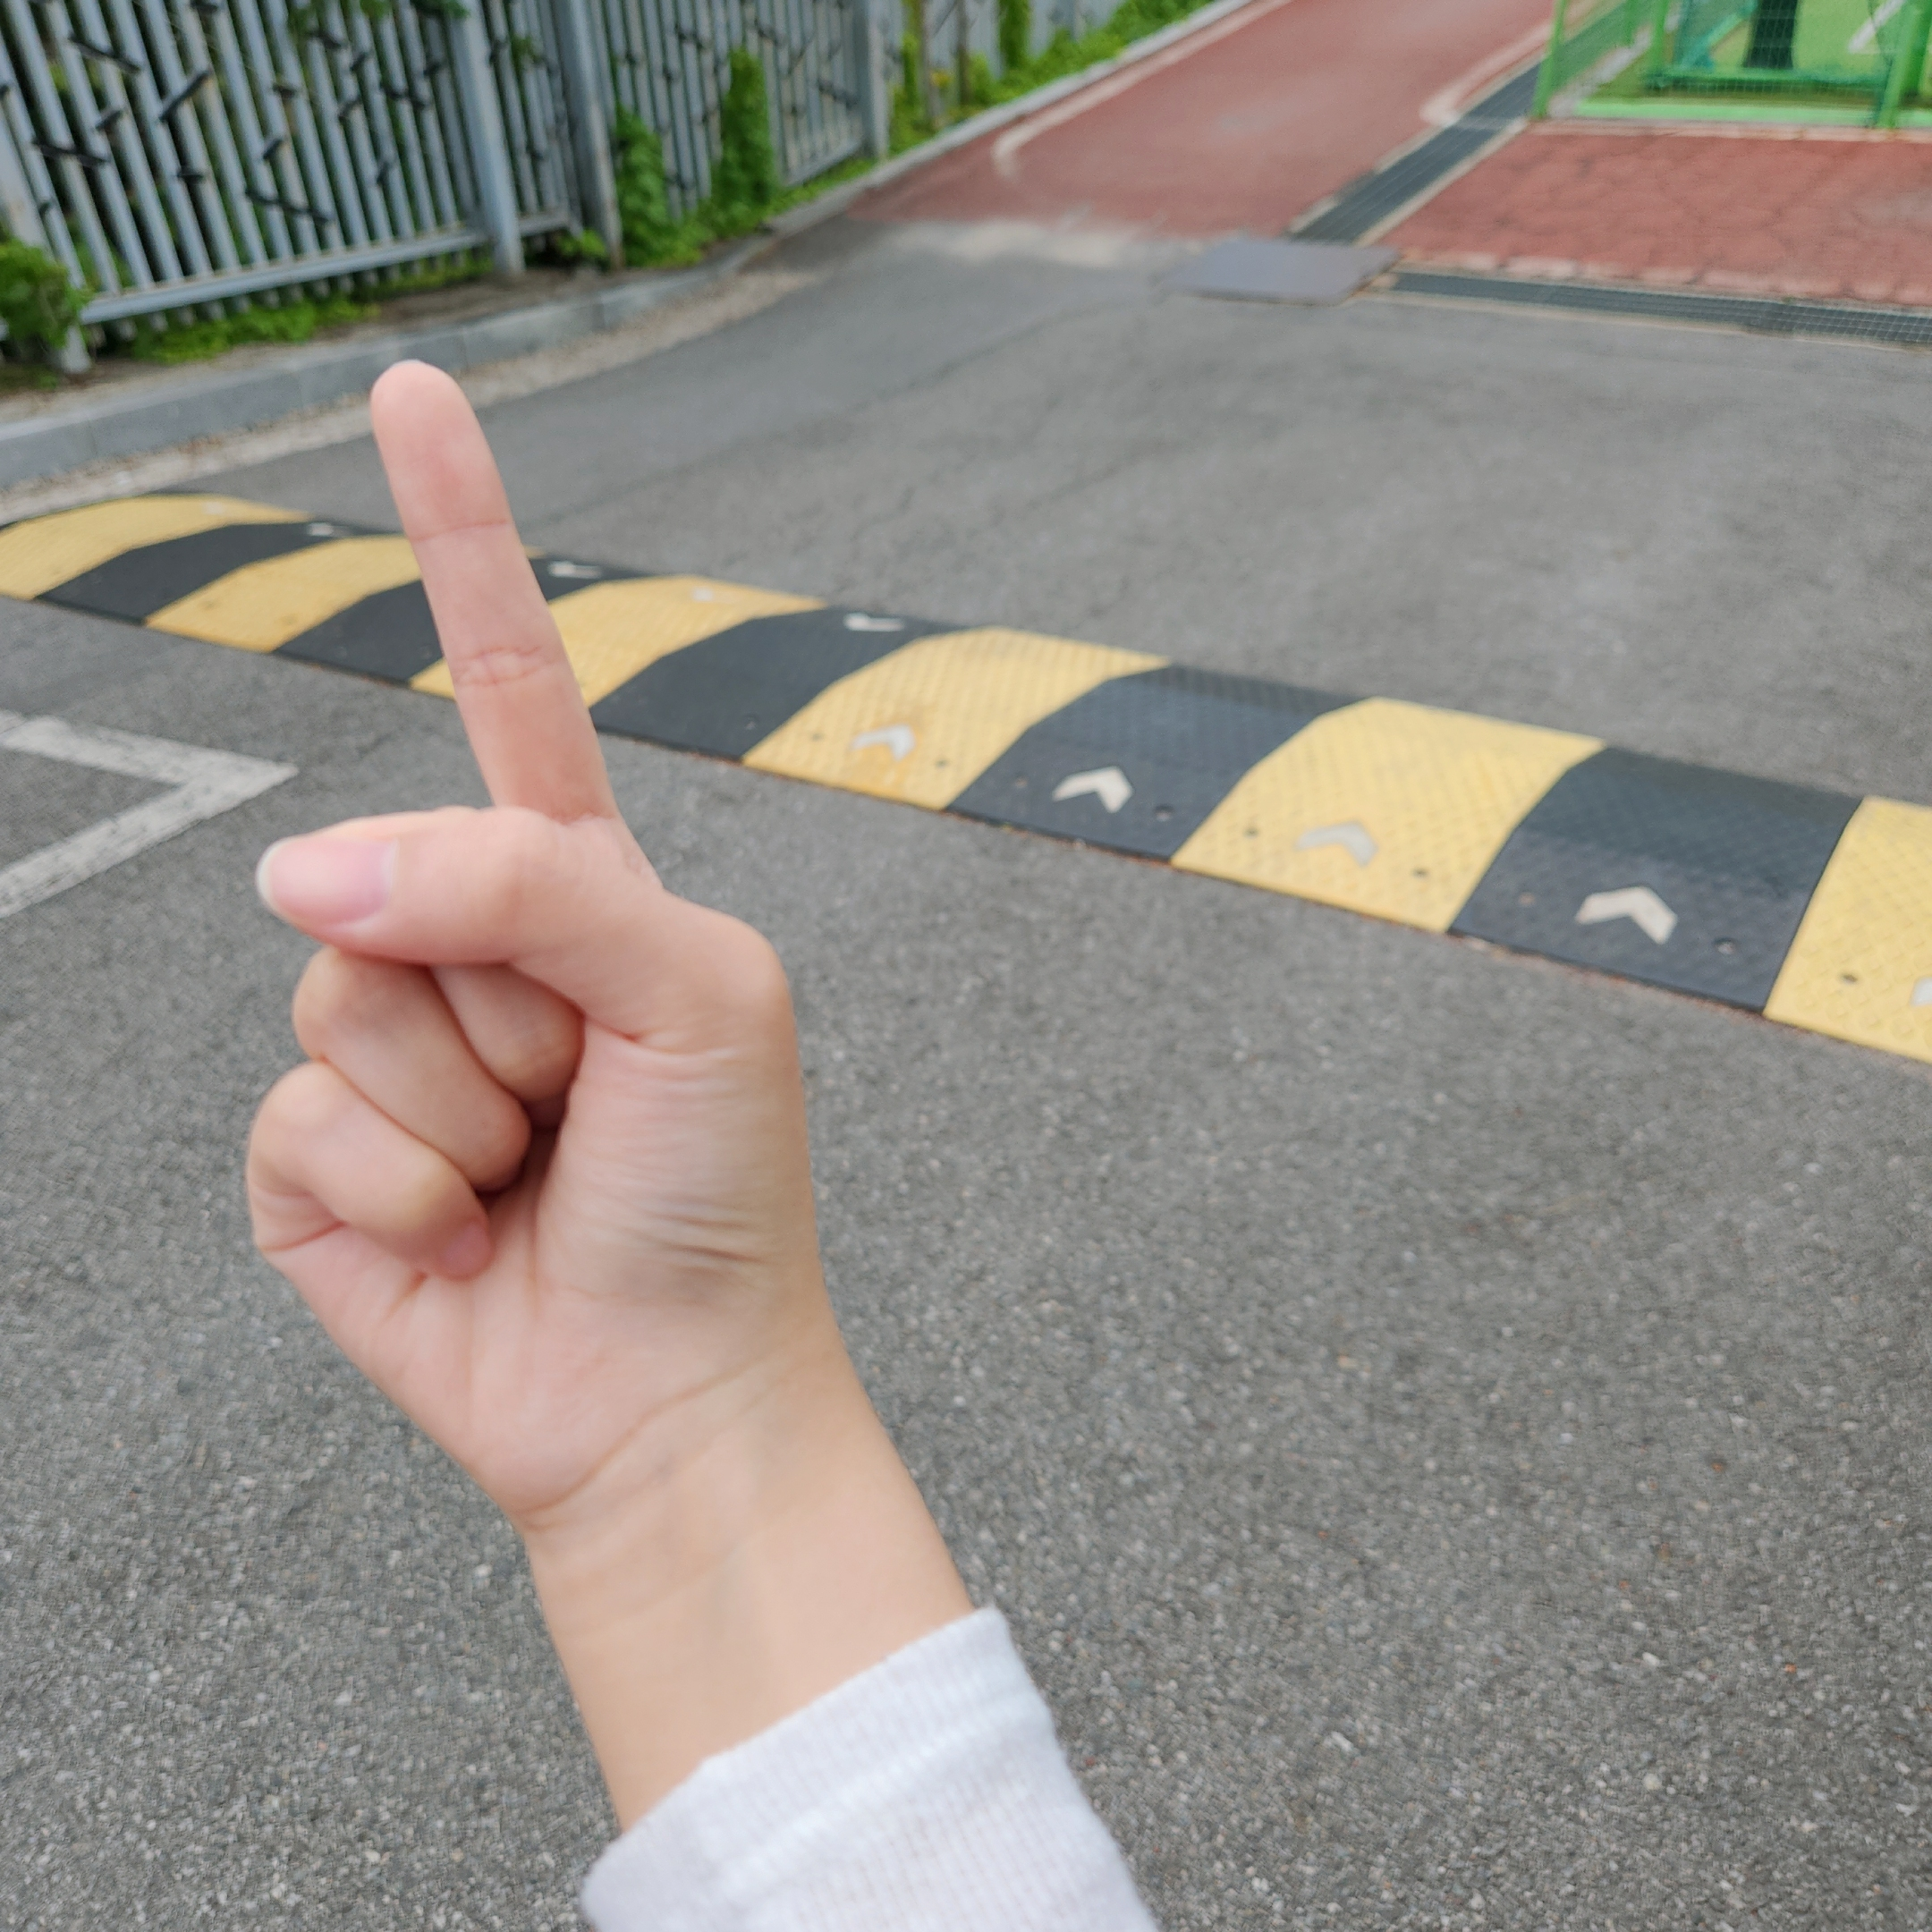what: (242, 358, 828, 1497)
